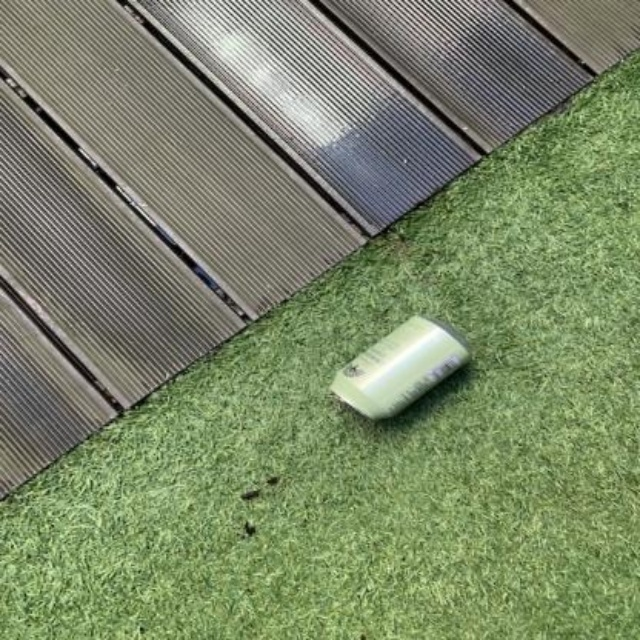trash: (331, 315, 468, 418)
